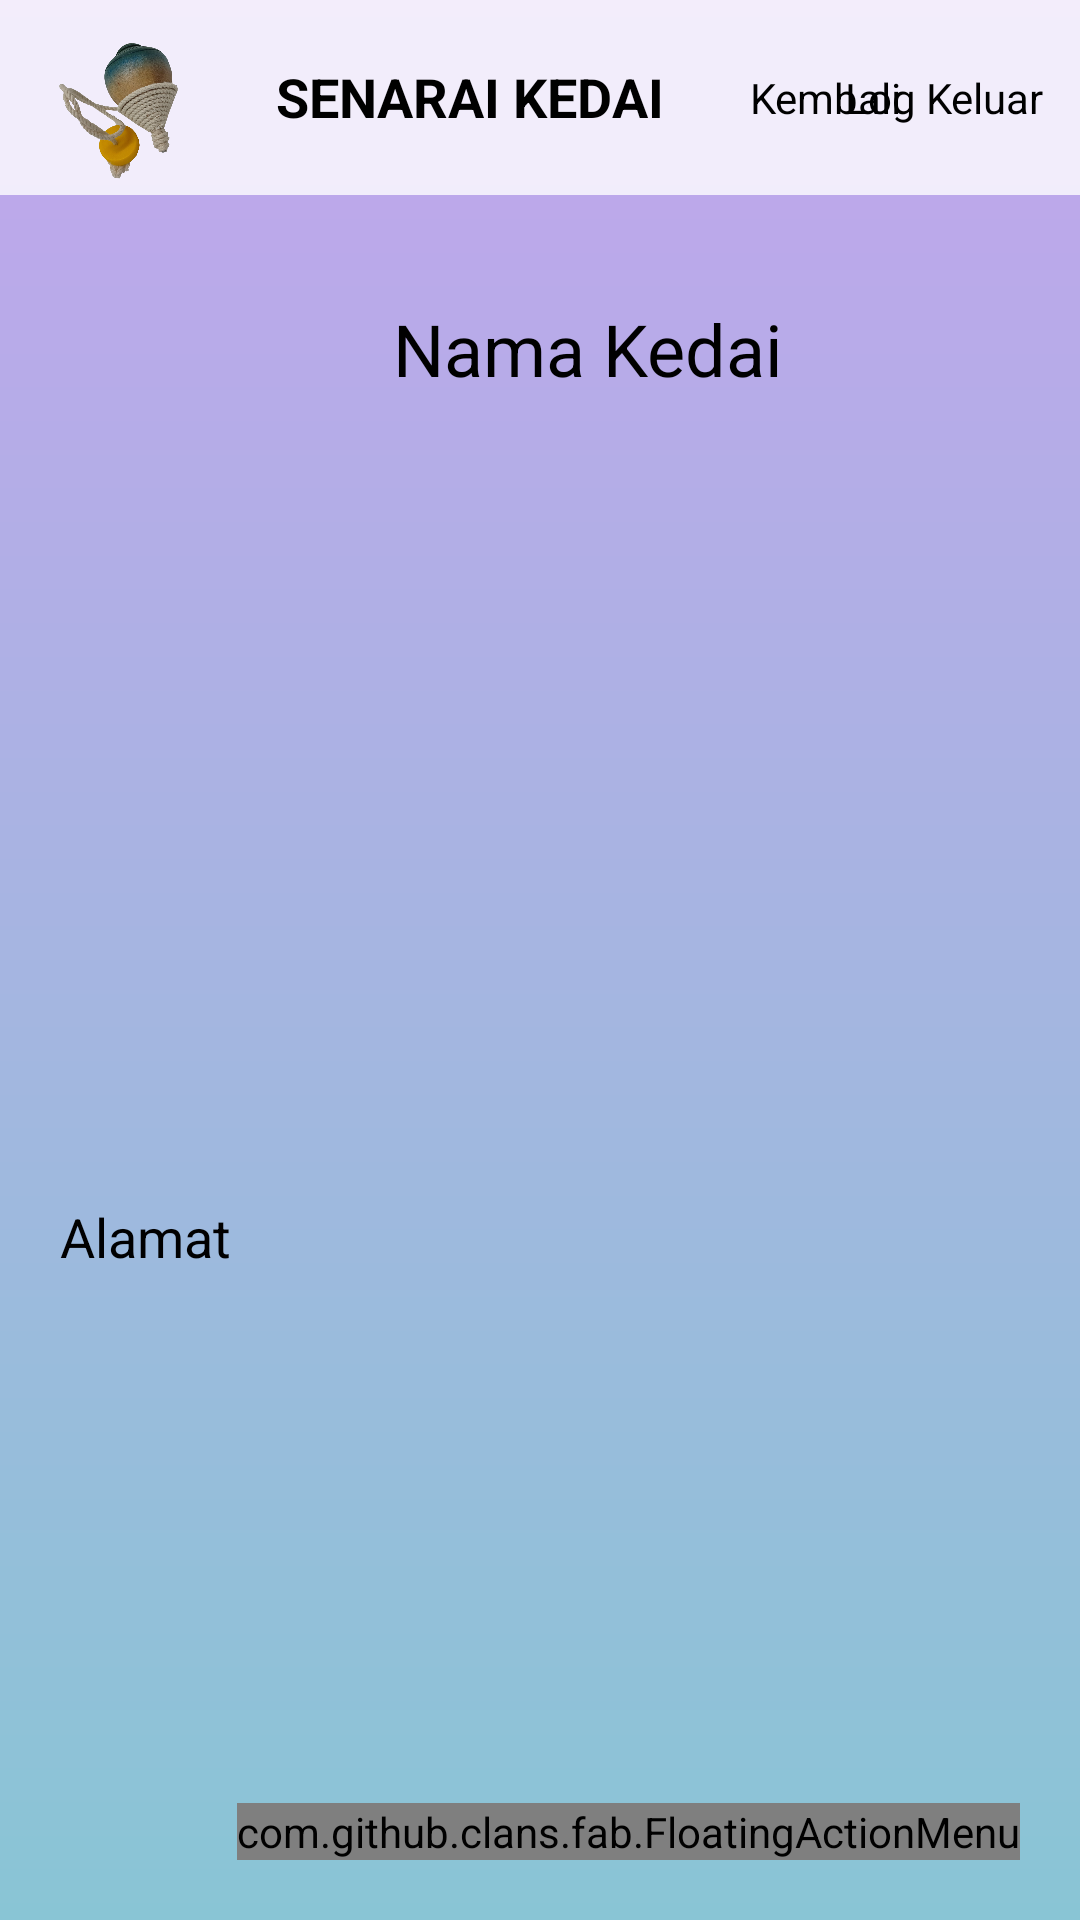

Where to tap for icons on this 1080 × 1920 app screen, as point (x, y):
gasing: point (118, 110)
